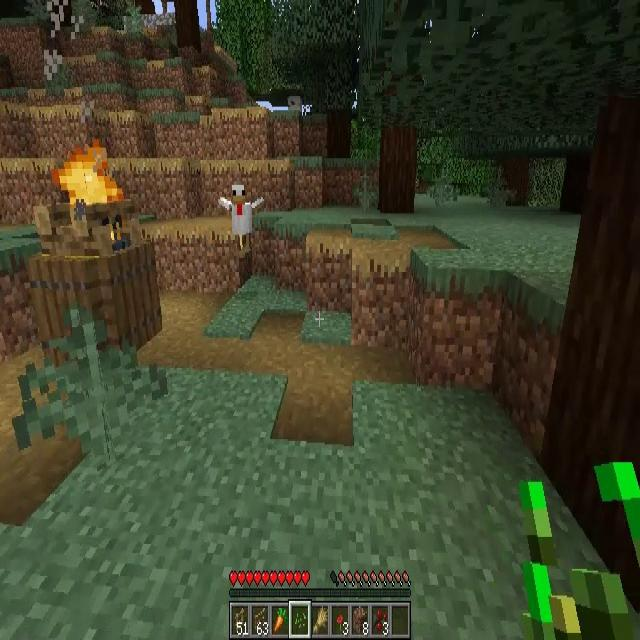duck: (220, 185, 264, 249)
